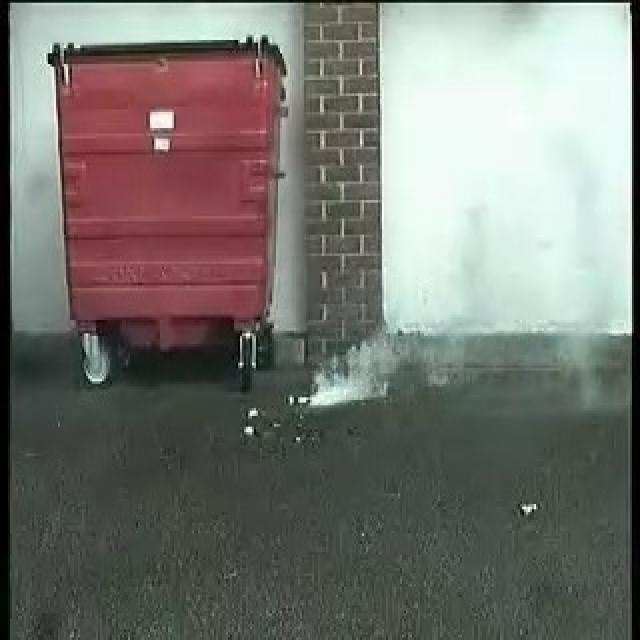smoke: (308, 326, 438, 404)
